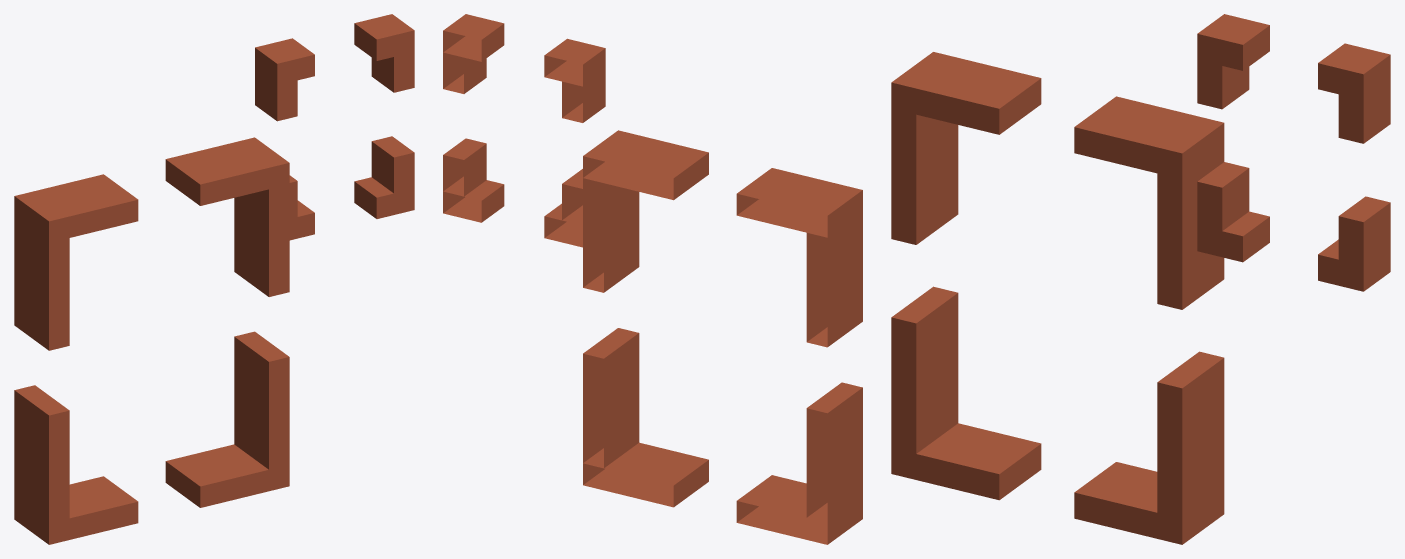
File: construction_0.glb
3 renders of one model, left to right at view 1: azimuth 30°, elevation 25°; view 2: azimuth 150°, elevation 25°; view 3: azimuth 330°, elevation 25°, orthographic. The views are drawn at different scales.
Parts seen in each view (by area): view 1: c0; view 2: c0; view 3: c0.
Boxes of the visible parts, left/top/right/bottom form: c0: left=14, top=14, right=414, bottom=544; c0: left=443, top=14, right=862, bottom=544; c0: left=891, top=14, right=1390, bottom=544.
Bounding box in the file's own units: 11 × 11.5 × 1.75.
